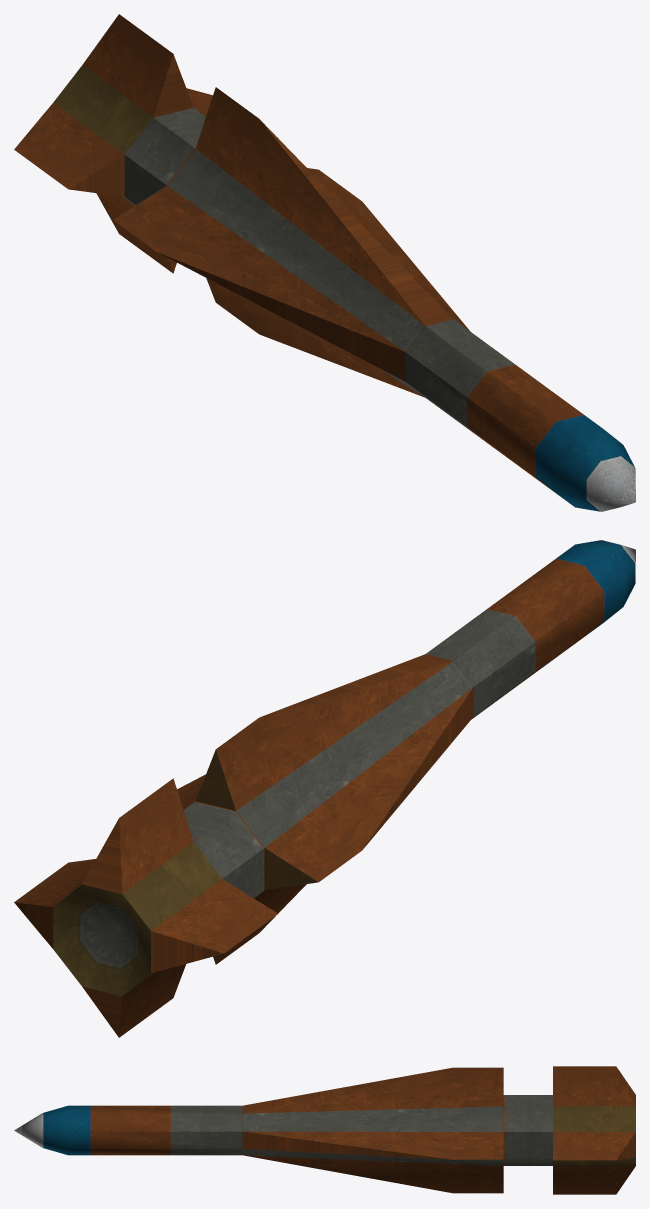
The model's file is iomhrn00.FBX.
The picture shows the model from 3 angles, top to bottom: view 1: azimuth 30°, elevation 25°; view 2: azimuth 150°, elevation 25°; view 3: azimuth 270°, elevation 25°; orthographic projection. The views are drawn at different scales.
Parts seen in each view (by area): view 1: iomhrn00; view 2: iomhrn00; view 3: iomhrn00.
Boxes of the visible parts, left/top/right/bottom form: iomhrn00: left=14, top=14, right=635, bottom=511; iomhrn00: left=14, top=540, right=635, bottom=1037; iomhrn00: left=14, top=1066, right=635, bottom=1194.
Size of the model in its own units: 0.3892 by 0.3892 by 1.71.
